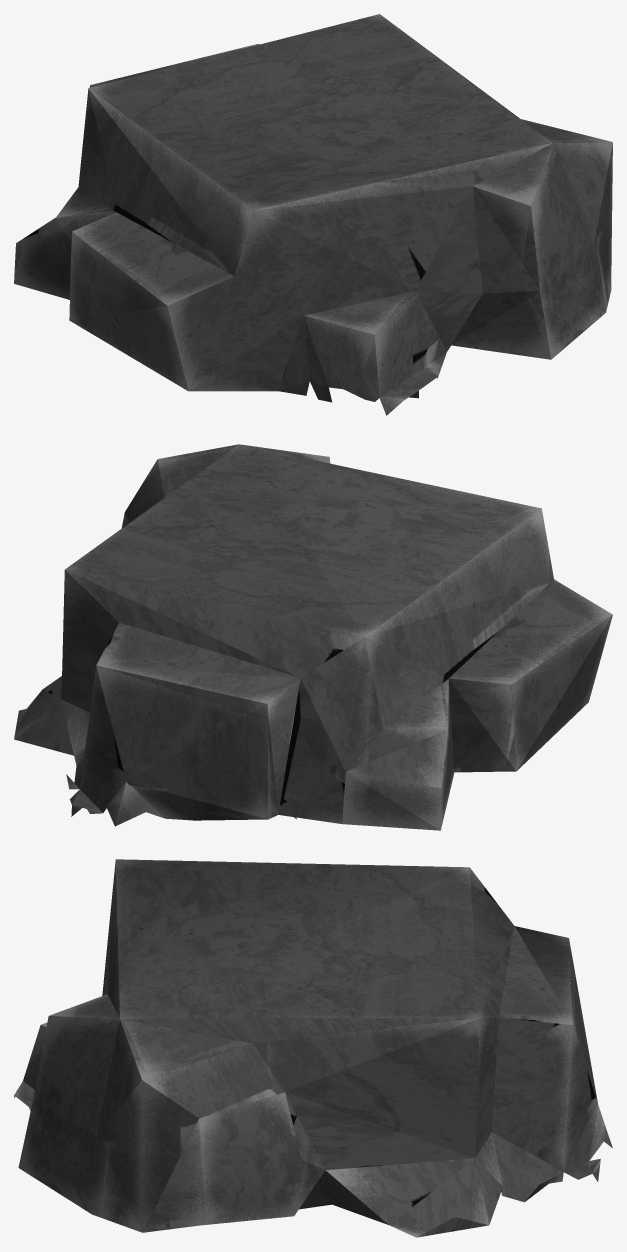
The model's file is ROCK B LOD.fbx.
The picture shows the model from 3 angles, top to bottom: view 1: azimuth 30°, elevation 25°; view 2: azimuth 150°, elevation 25°; view 3: azimuth 270°, elevation 25°; orthographic projection. The views are drawn at different scales.
Visible parts, largest first — view 1: ROCK B LOD; view 2: ROCK B LOD; view 3: ROCK B LOD.
Boxes of the visible parts, <box> form: ROCK B LOD: <box>14,14,612,415</box>; ROCK B LOD: <box>14,444,612,830</box>; ROCK B LOD: <box>14,859,612,1237</box>.
Size of the model in its own units: 2.92 by 1.21 by 3.19.
